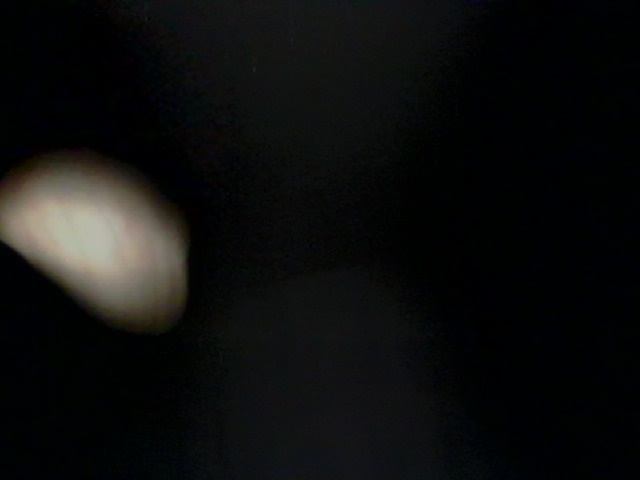QTLJ: (491, 20, 640, 229)
